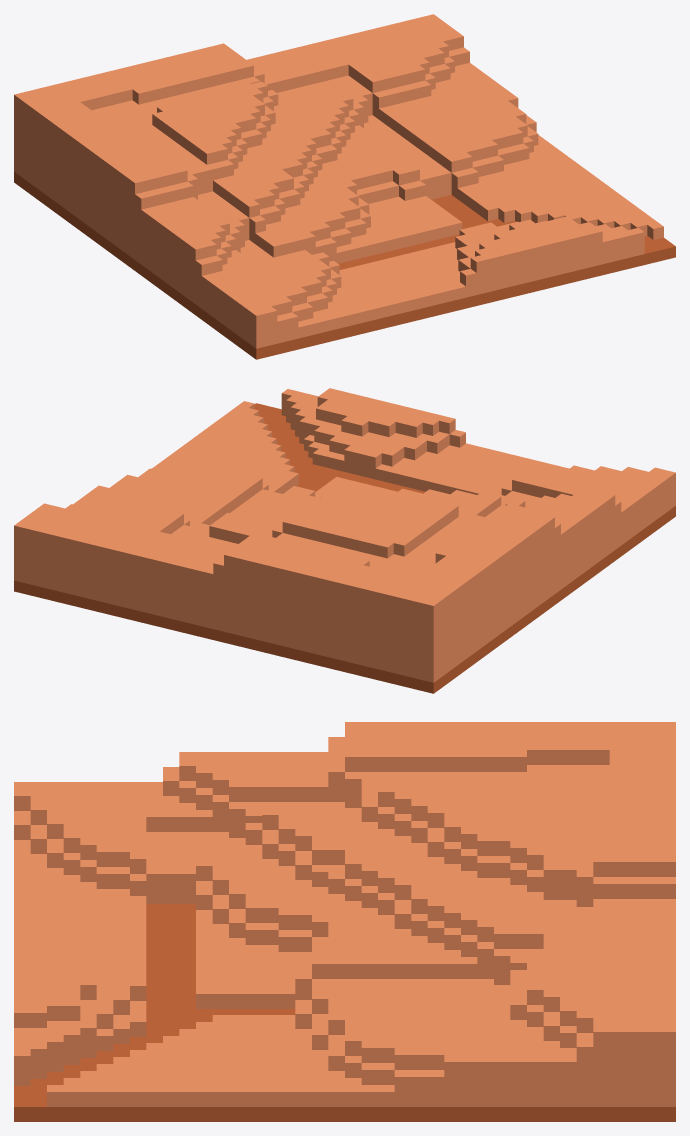
File: floor.obj
3 views of the same model, one above another, from view 1: azimuth 30°, elevation 25°; view 2: azimuth 150°, elevation 25°; view 3: azimuth 270°, elevation 25° (orthographic). The views are drawn at different scales.
Size of the model in its own units: 4 by 0.8 by 4.
1 material, 1 textured.
